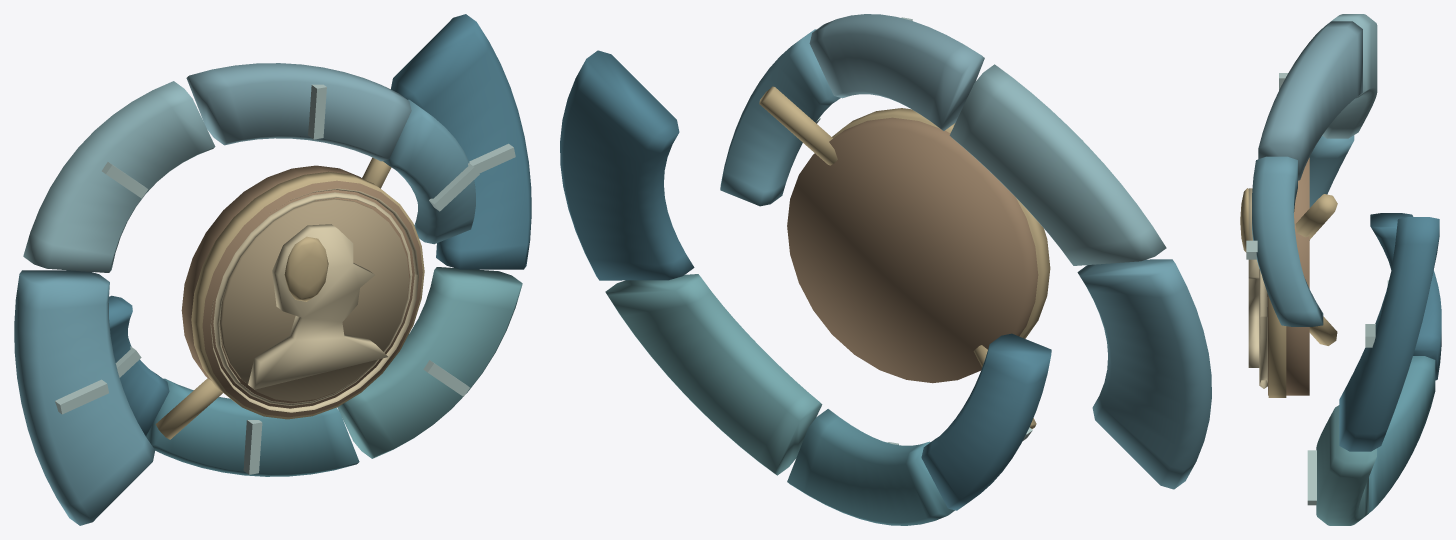
File: ART-28.glb
3 views of the same model, side by side, from view 1: azimuth 30°, elevation 25°; view 2: azimuth 150°, elevation 25°; view 3: azimuth 270°, elevation 25° (orthographic). The views are drawn at different scales.
Parts seen in each view (by area): view 1: world; view 2: world; view 3: world.
Boxes of the visible parts, bbox=[...] form: world: bbox=[14, 14, 531, 525]; world: bbox=[560, 14, 1211, 525]; world: bbox=[1240, 14, 1441, 525].
Size of the model in its own units: 2 by 1.53 by 0.6498.
